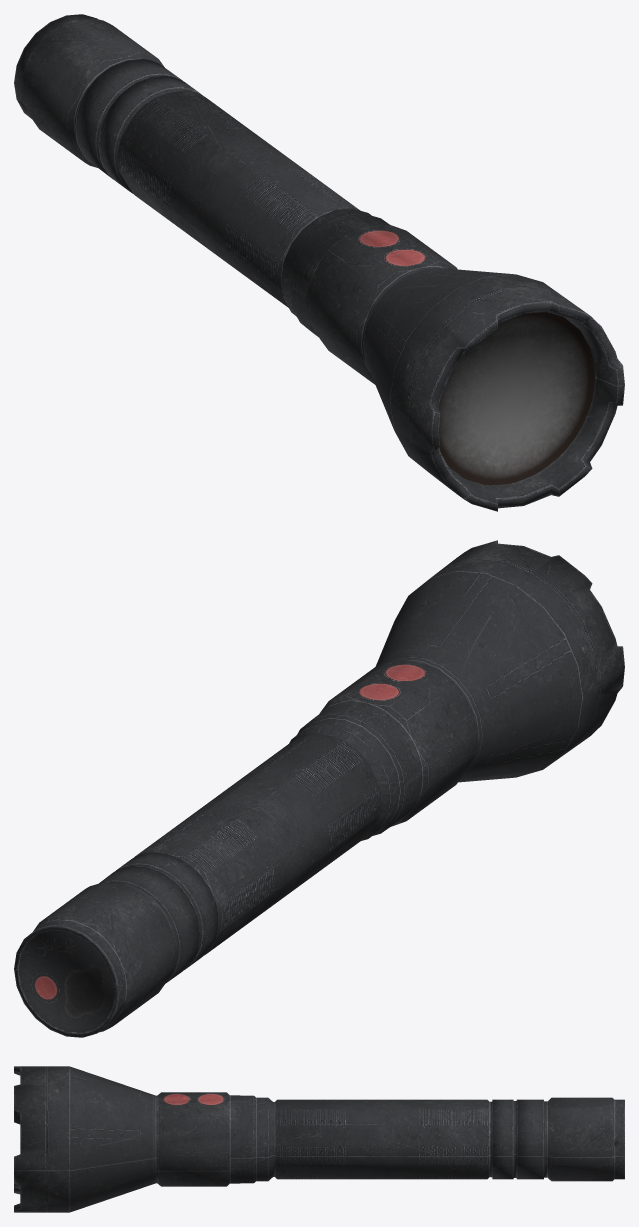
The model's file is flashlight.glb.
The picture shows the model from 3 angles, top to bottom: view 1: azimuth 30°, elevation 25°; view 2: azimuth 150°, elevation 25°; view 3: azimuth 270°, elevation 25°; orthographic projection. The views are drawn at different scales.
Parts seen in each view (by area): view 1: Flashlight; view 2: Flashlight; view 3: Flashlight.
Boxes of the visible parts, x1,y1,x2,y2 form: Flashlight: (14,14,624,511); Flashlight: (14,540,624,1037); Flashlight: (14,1066,624,1212).
Bounding box in the file's own units: 0.07 × 0.07 × 0.2903.
1 material, 1 textured.
